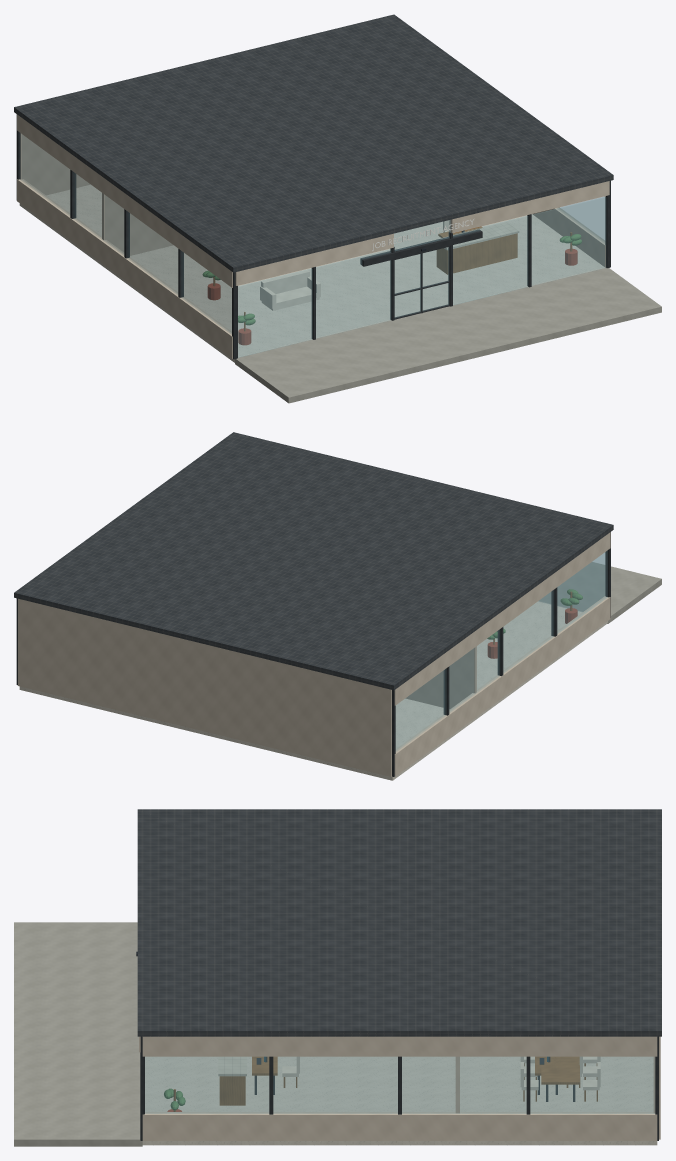
The model's file is 09_Job_Recruitment_Agency_LOD1.glb.
3 views of the same model, one above another, from view 1: azimuth 30°, elevation 25°; view 2: azimuth 150°, elevation 25°; view 3: azimuth 270°, elevation 25° (orthographic). The views are drawn at different scales.
Parts seen in each view (by area): view 1: Roof, Floor, Approach, Front glazing, Front glazing.001, Side glazing, Side base wall, Side upper wall, Front band.001, Front band, Rear wall, Internal partition (+10 smaller); view 2: Roof, Rear wall, Side glazing, Floor, Side base wall, Side upper wall, Approach, Internal partition, Front glazing; view 3: Roof, Side glazing.001, Approach, Floor, Side base wall.001, Side upper wall.001, Tabletop.003, Service counter, Stone countertop.
Boxes of the visible parts, x1=… form: Roof: x1=14, y1=14, x2=613, y2=272; Floor: x1=19, y1=184, x2=605, y2=362; Approach: x1=235, y1=268, x2=661, y2=403; Front glazing: x1=238, y1=249, x2=391, y2=357; Front glazing.001: x1=453, y1=197, x2=606, y2=304; Side glazing: x1=20, y1=133, x2=231, y2=333; Side base wall: x1=17, y1=179, x2=232, y2=358; Side upper wall: x1=17, y1=114, x2=232, y2=287; Front band.001: x1=449, y1=181, x2=609, y2=233; Front band: x1=235, y1=233, x2=393, y2=285; Rear wall: x1=20, y1=133, x2=90, y2=195; Internal partition: x1=102, y1=193, x2=172, y2=255; Roof: x1=14, y1=432, x2=613, y2=690; Rear wall: x1=18, y1=598, x2=391, y2=776; Side glazing: x1=396, y1=551, x2=607, y2=751; Floor: x1=19, y1=601, x2=607, y2=780; Side base wall: x1=394, y1=596, x2=610, y2=776; Side upper wall: x1=394, y1=532, x2=610, y2=705; Approach: x1=539, y1=562, x2=661, y2=623; Internal partition: x1=405, y1=646, x2=476, y2=708; Front glazing: x1=539, y1=553, x2=604, y2=611; Roof: x1=137, y1=809, x2=661, y2=1036; Side glazing.001: x1=145, y1=1057, x2=654, y2=1113; Approach: x1=14, y1=922, x2=142, y2=1146; Floor: x1=142, y1=1056, x2=657, y2=1145; Side base wall.001: x1=142, y1=1112, x2=657, y2=1140; Side upper wall.001: x1=142, y1=1036, x2=657, y2=1056; Tabletop.003: x1=541, y1=1056, x2=579, y2=1084; Service counter: x1=219, y1=1076, x2=245, y2=1105; Stone countertop: x1=218, y1=1056, x2=246, y2=1076.
Bounding box in the file's own units: 16.3 × 4.04 × 20.15.
Materials: 15 (9 with a texture image).
